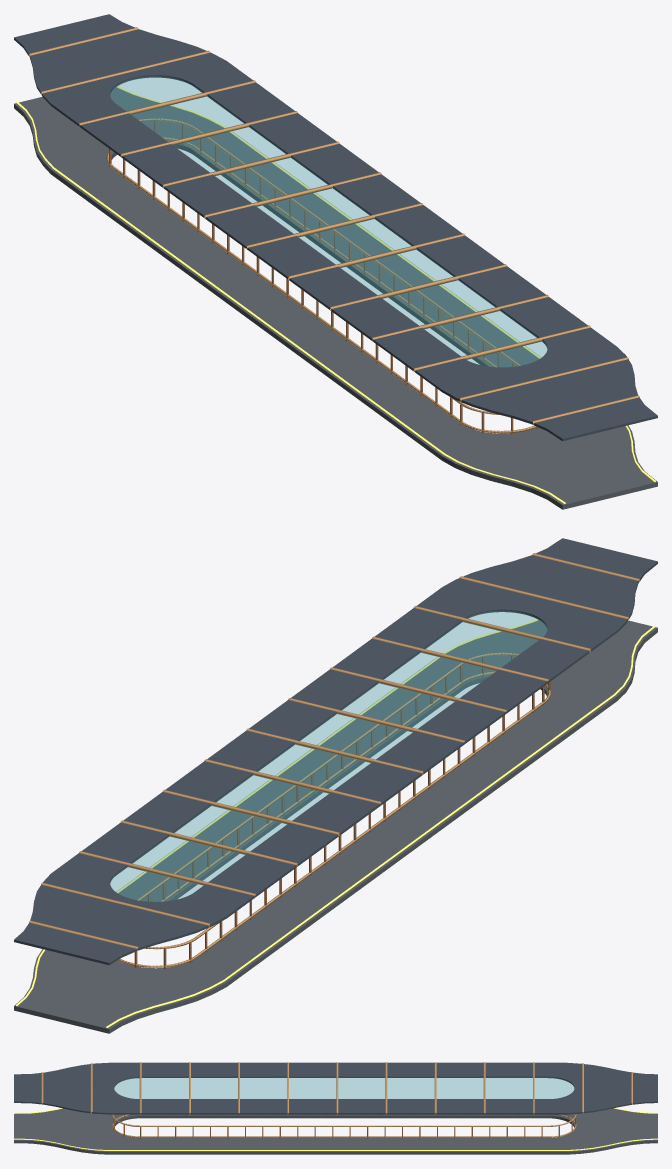
Rendered from Split_Hall_Upper.glb.
3 views of the same model, one above another, from view 1: azimuth 30°, elevation 25°; view 2: azimuth 150°, elevation 25°; view 3: azimuth 270°, elevation 25° (orthographic). The views are drawn at different scales.
Parts seen in each view (by area): view 1: Roof_shoulder, Upper_Atrium_Walkway_Floor, Skylight_glass, Skylight_cross_rib (×9), Atrium_guardrail (×3), Walkway_edge_light (×2); view 2: Roof_shoulder, Upper_Atrium_Walkway_Floor, Skylight_glass, Skylight_cross_rib (×9), Atrium_guardrail (×3), Walkway_edge_light (×2); view 3: Roof_shoulder, Upper_Atrium_Walkway_Floor, Skylight_glass, Atrium_guardrail (×2), Walkway_edge_light.
Part boxes in pixels (x1,y1,x2,y2): Roof_shoulder: (14,14,657,441); Upper_Atrium_Walkway_Floor: (14,87,657,509); Skylight_glass: (110,76,546,366); Skylight_cross_rib (×9): (79,80,590,371); Atrium_guardrail (×3): (113,128,520,422); Walkway_edge_light (×2): (53,126,540,454); Roof_shoulder: (14,538,657,965); Upper_Atrium_Walkway_Floor: (14,620,657,1033); Skylight_glass: (110,611,546,901); Skylight_cross_rib (×9): (79,606,590,897); Atrium_guardrail (×3): (137,663,544,957); Walkway_edge_light (×2): (116,652,615,981); Roof_shoulder: (14,1062,657,1114); Upper_Atrium_Walkway_Floor: (14,1108,657,1154); Skylight_glass: (114,1077,574,1098); Atrium_guardrail (×2): (140,1125,547,1137); Walkway_edge_light: (108,1150,567,1150).
Bounding box in the file's own units: 9.2 × 3.6 × 49.8.
